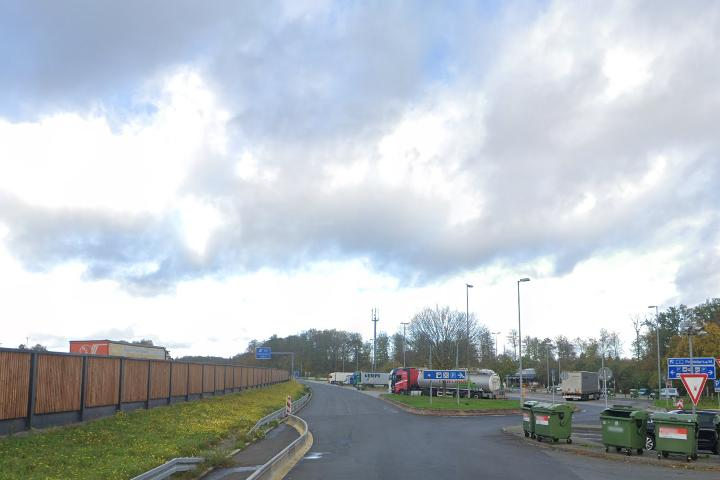traffic_sign: (681, 372, 707, 406)
vehicle: (390, 365, 505, 400), (559, 369, 604, 402), (349, 369, 395, 388), (326, 371, 360, 385)
